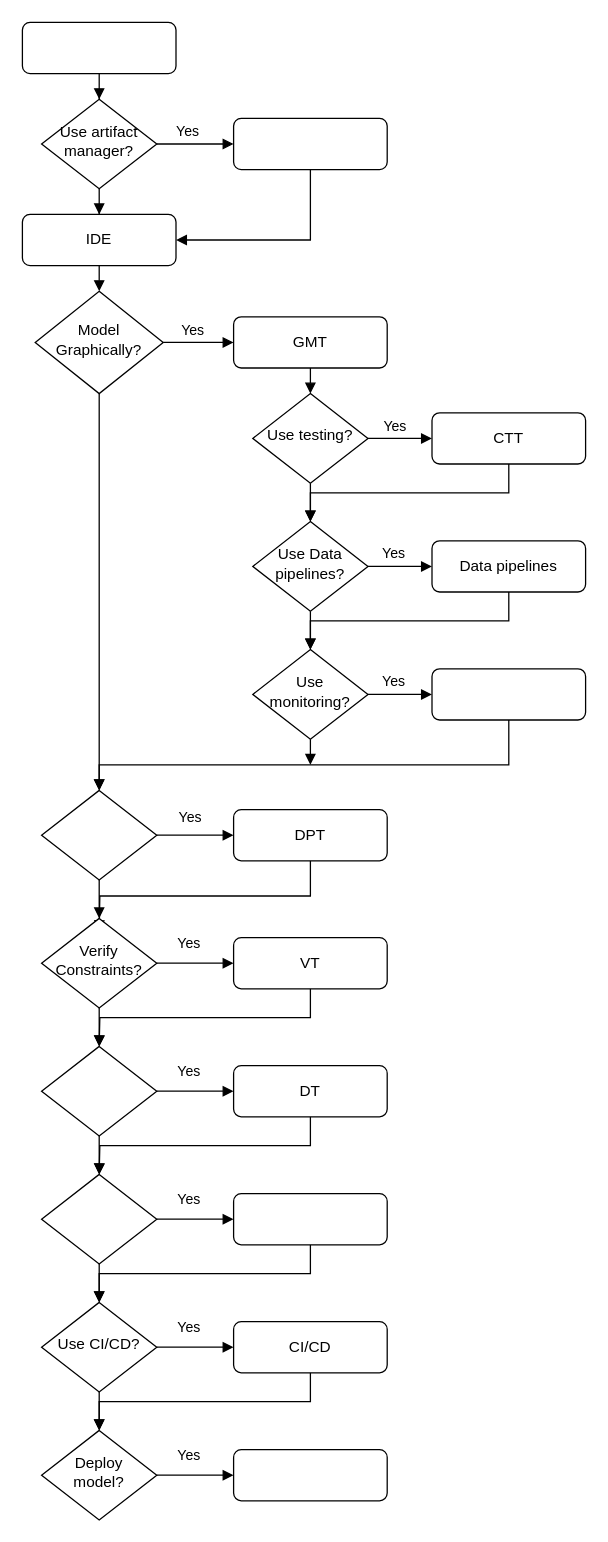
The diagram is 608 pixels wide and 1542 high, and some of its shapes have lost their labels. The shapes that lost their labels are listed below. From the top down, each one's box as (x1, y1, x2, y2) in pixels, then its label:
(21, 21, 176, 74): App's source code
(232, 117, 387, 170): FunctionHub
(431, 668, 586, 720): Monitoring
(40, 789, 157, 880): Predict defects?
(40, 1045, 157, 1136): Decompose application?
(40, 1173, 157, 1264): Store model in TPL?
(232, 1192, 387, 1245): Template Library
(232, 1448, 387, 1501): xOpera
